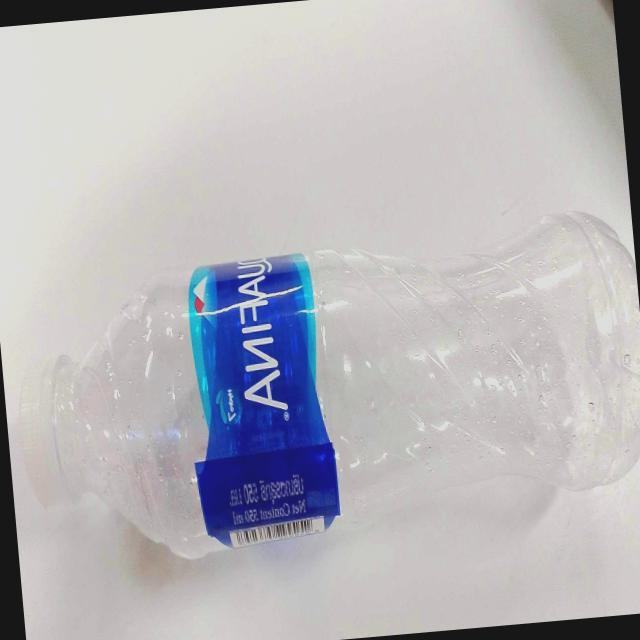General: (46, 207, 639, 560)
